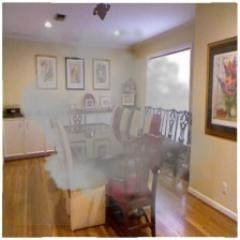smoke: (33, 71, 175, 185)
